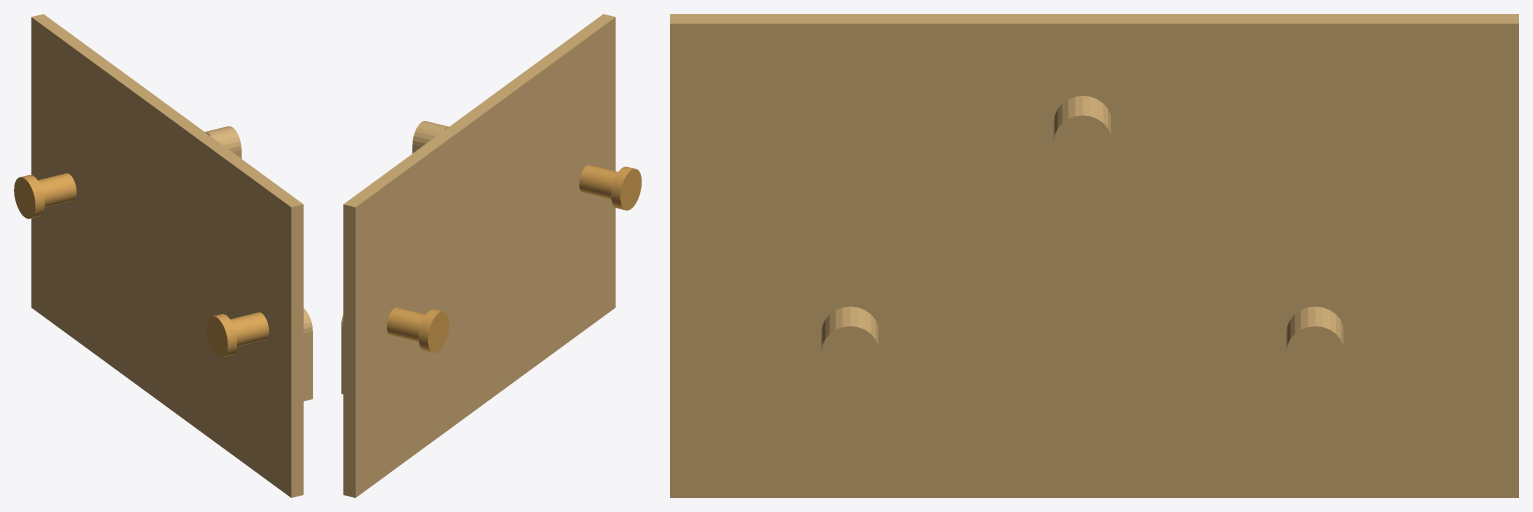
Rendered from Craftsman 12V Charger Skadis.glb.
3 renders of one model, left to right at view 1: azimuth 30°, elevation 25°; view 2: azimuth 150°, elevation 25°; view 3: azimuth 270°, elevation 25°, orthographic. The views are drawn at different scales.
Visible parts, largest first — view 1: Mesh_Mesh_head_geo.001_lambert2SG.001; view 2: Mesh_Mesh_head_geo.001_lambert2SG.001; view 3: Mesh_Mesh_head_geo.001_lambert2SG.001.
Boxes of the visible parts, box(x1,y1,x2,y2) form: Mesh_Mesh_head_geo.001_lambert2SG.001: box(14, 14, 312, 497); Mesh_Mesh_head_geo.001_lambert2SG.001: box(341, 14, 641, 497); Mesh_Mesh_head_geo.001_lambert2SG.001: box(670, 14, 1518, 497).
Bounding box in the file's own units: 0.0182 × 0.045 × 0.073.
